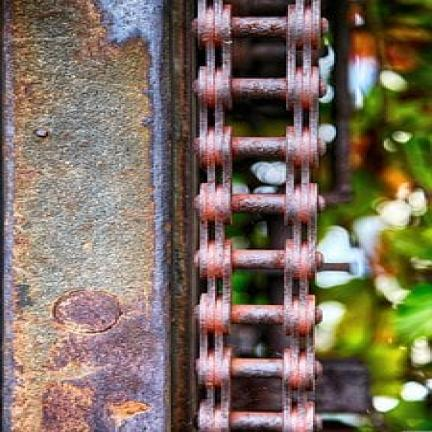karat: (2, 0, 190, 431), (192, 0, 349, 431)
